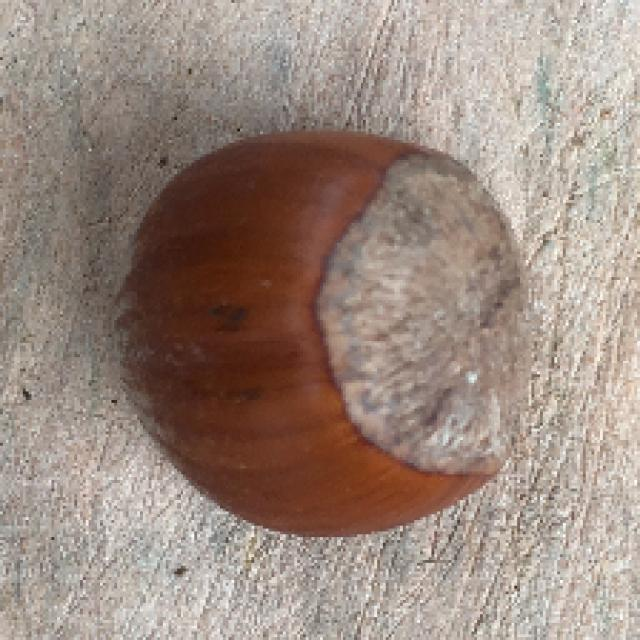qualityHazelnut: (101, 123, 538, 542)
